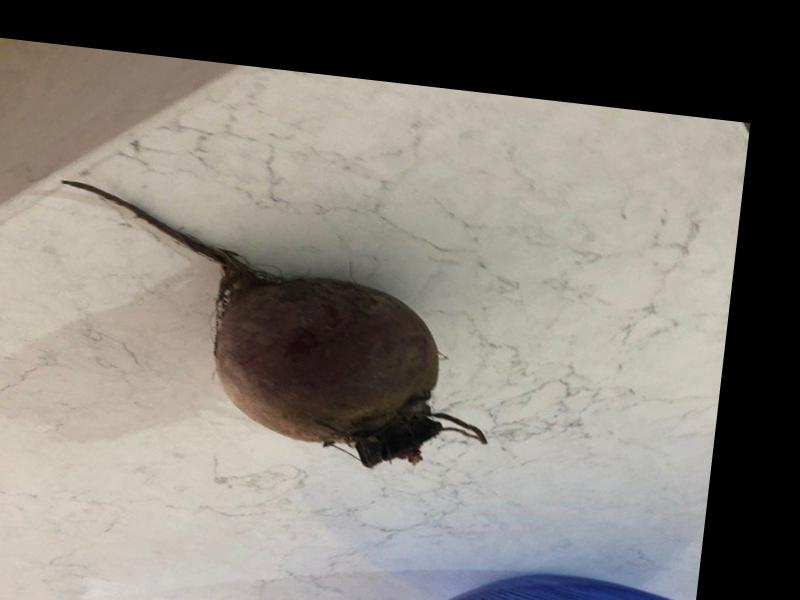Beet: (35, 178, 508, 478)
